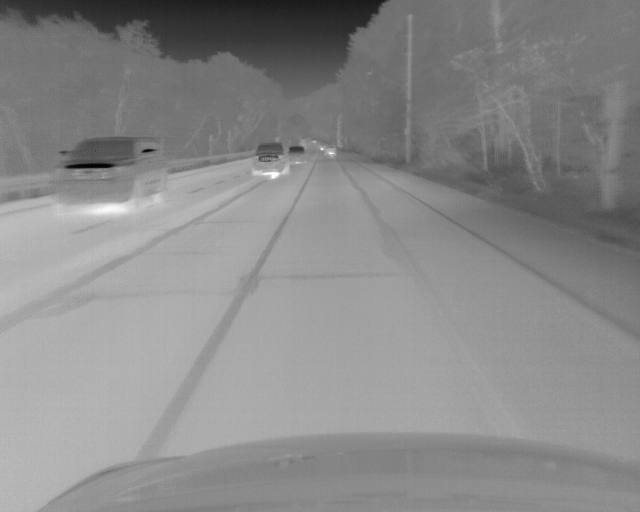car: (53, 136, 169, 208), (253, 143, 285, 177), (288, 144, 306, 167), (324, 145, 336, 160)
